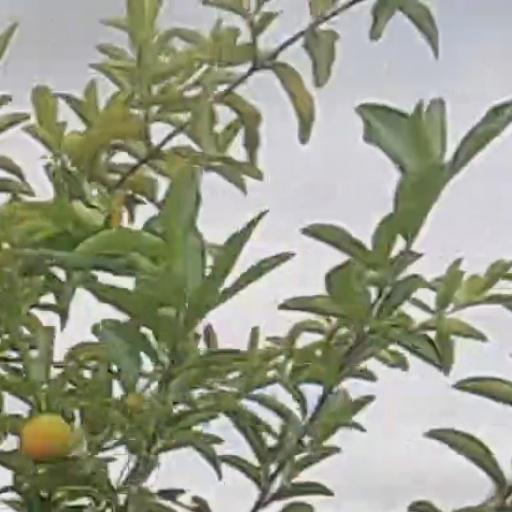acerola: (24, 414, 69, 455)
